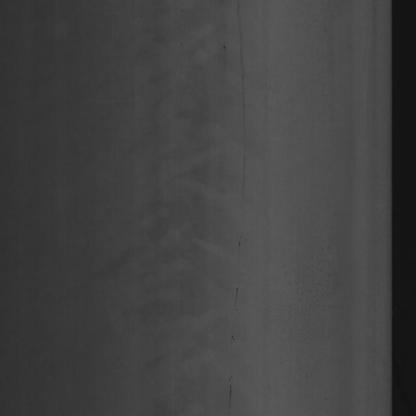inclusion: (223, 17, 249, 407)
